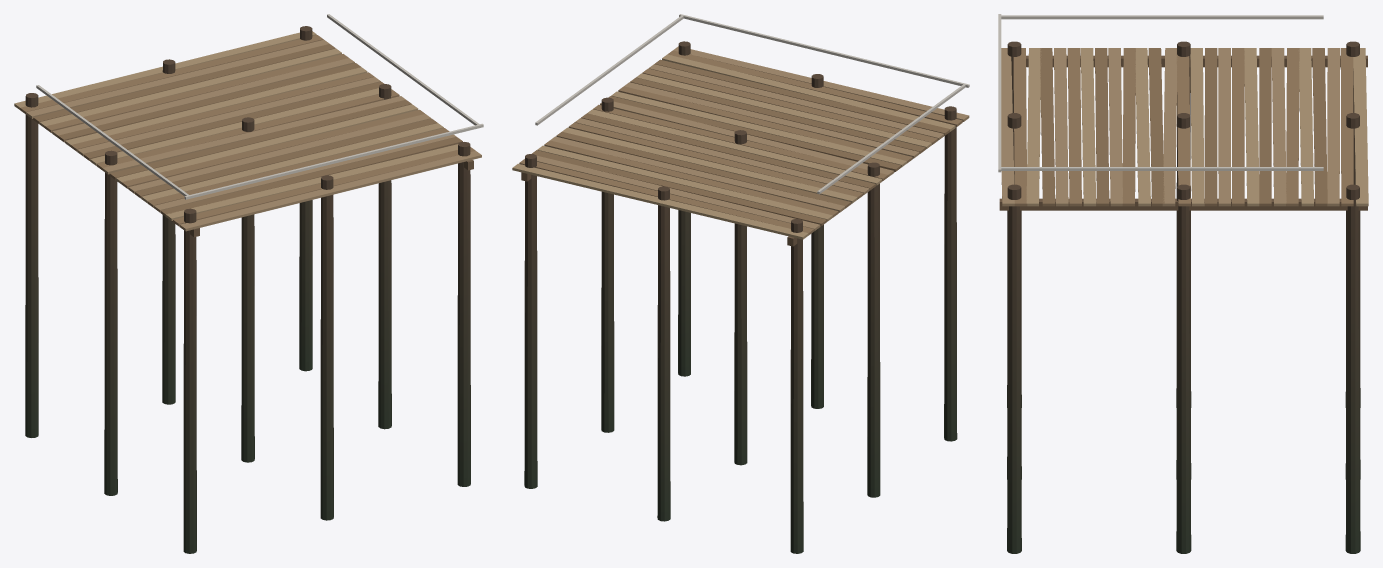
File: Pier_Platform.glb
The picture shows the model from 3 angles, left to right: view 1: azimuth 30°, elevation 25°; view 2: azimuth 150°, elevation 25°; view 3: azimuth 270°, elevation 25°; orthographic projection. The views are drawn at different scales.
Visible parts, largest first — view 1: Pier_Platform; view 2: Pier_Platform; view 3: Pier_Platform.
Part boxes in pixels (x1,y1,x2,y2): Pier_Platform: [14, 14, 483, 553]; Pier_Platform: [512, 14, 969, 553]; Pier_Platform: [998, 14, 1368, 553].
Size of the model in its own units: 10 by 11.62 by 10.06.
